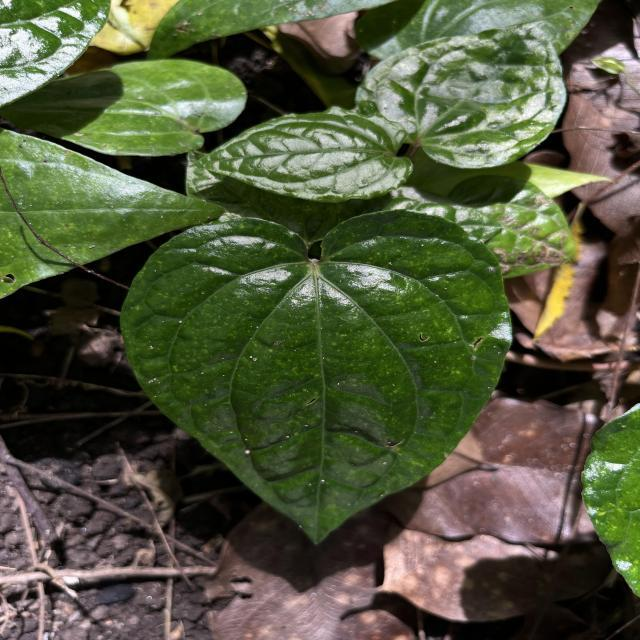Piper betle: (115, 203, 517, 550)
